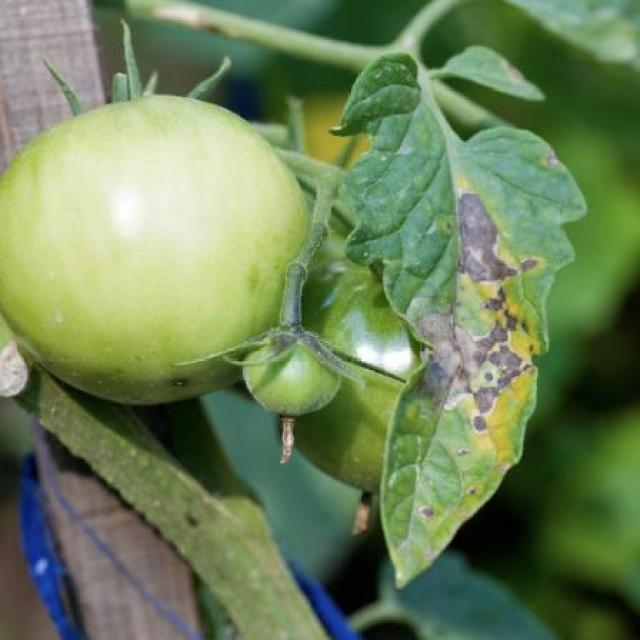Early Blight: (334, 54, 589, 592)
